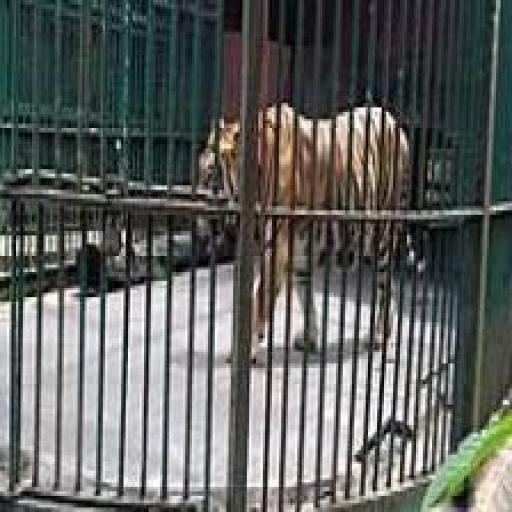Tiger: (194, 87, 430, 371)
